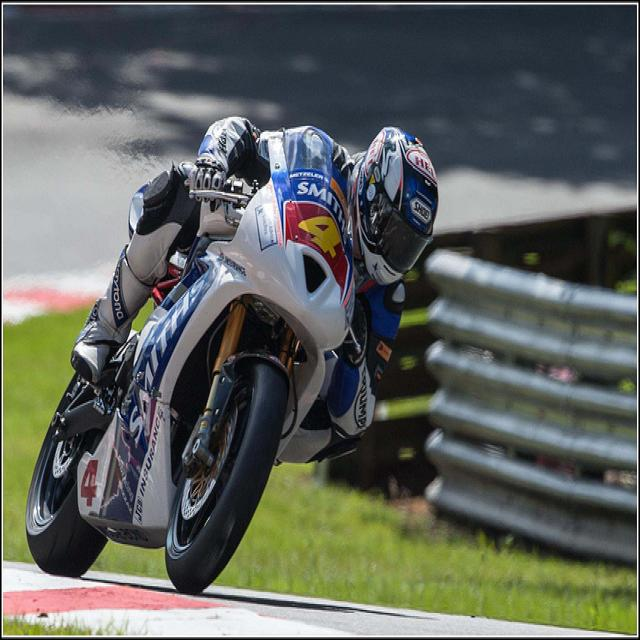motor: (25, 112, 441, 600)
